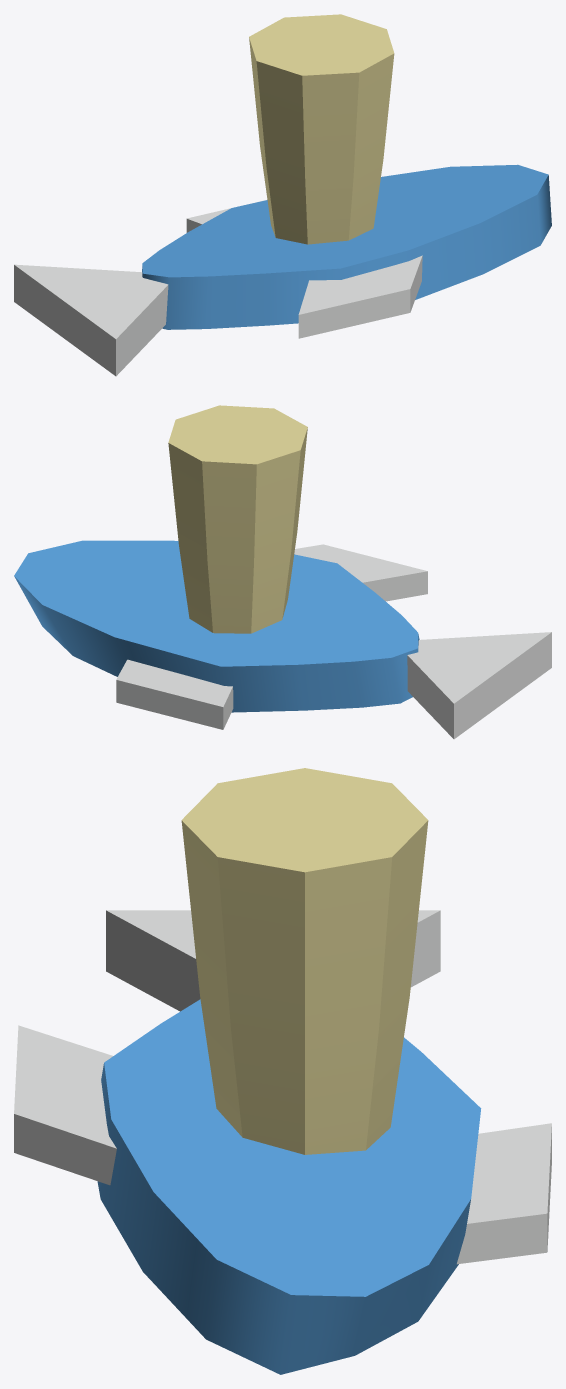
File: koma3.fbx
The picture shows the model from 3 angles, top to bottom: view 1: azimuth 30°, elevation 25°; view 2: azimuth 150°, elevation 25°; view 3: azimuth 270°, elevation 25°; orthographic projection. The views are drawn at different scales.
Visible parts, largest first — view 1: pCylinder1, pCube1, pCube2, pCube5; view 2: pCylinder1, pCube1, pCube2, pCube4, pCube5; view 3: pCylinder1, pCube1, pCube5, pCube4, pCube2.
Part boxes in pixels (x1,y1,x2,y2): pCylinder1: (142,164,551,329); pCube1: (249,14,394,244); pCube2: (14,264,168,376); pCube5: (298,255,422,338); pCylinder1: (14,540,419,712); pCube1: (168,405,307,633); pCube2: (407,632,551,739); pCube4: (116,659,233,729); pCube5: (294,544,427,601); pCylinder1: (97,999,481,1374); pCube1: (181,768,428,1154); pCube5: (14,1025,116,1185); pCube4: (457,1123,551,1264); pCube2: (106,910,440,1011).
Bounding box in the file's own units: 4.72 × 2.28 × 2.74.
